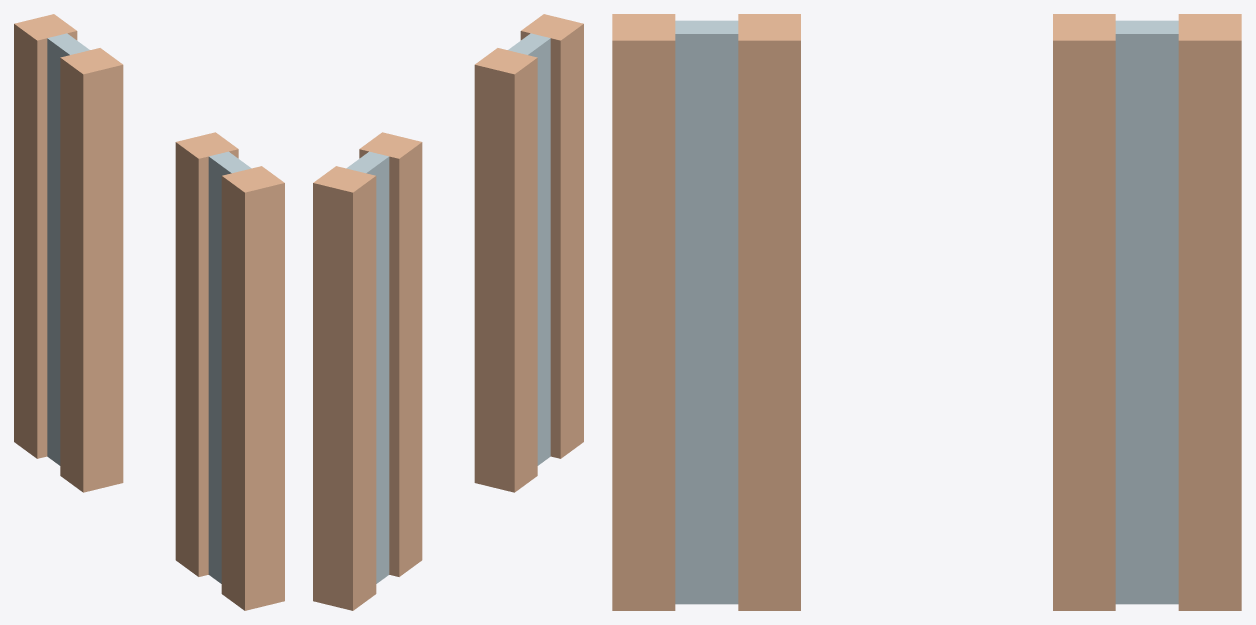
The model's file is wallDoorwayBase.glb.
The picture shows the model from 3 angles, left to right: view 1: azimuth 30°, elevation 25°; view 2: azimuth 150°, elevation 25°; view 3: azimuth 270°, elevation 25°; orthographic projection. The views are drawn at different scales.
Visible parts, largest first — view 1: wallDoorwayBase; view 2: wallDoorwayBase; view 3: wallDoorwayBase.
Boxes of the visible parts, left/top/right/bottom form: wallDoorwayBase: left=14, top=14, right=284, bottom=610; wallDoorwayBase: left=313, top=14, right=583, bottom=610; wallDoorwayBase: left=612, top=14, right=1241, bottom=610.
Bounding box in the file's own units: 0.1 × 1 × 1.
